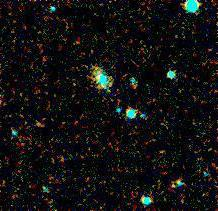star: (160, 171, 190, 201)
